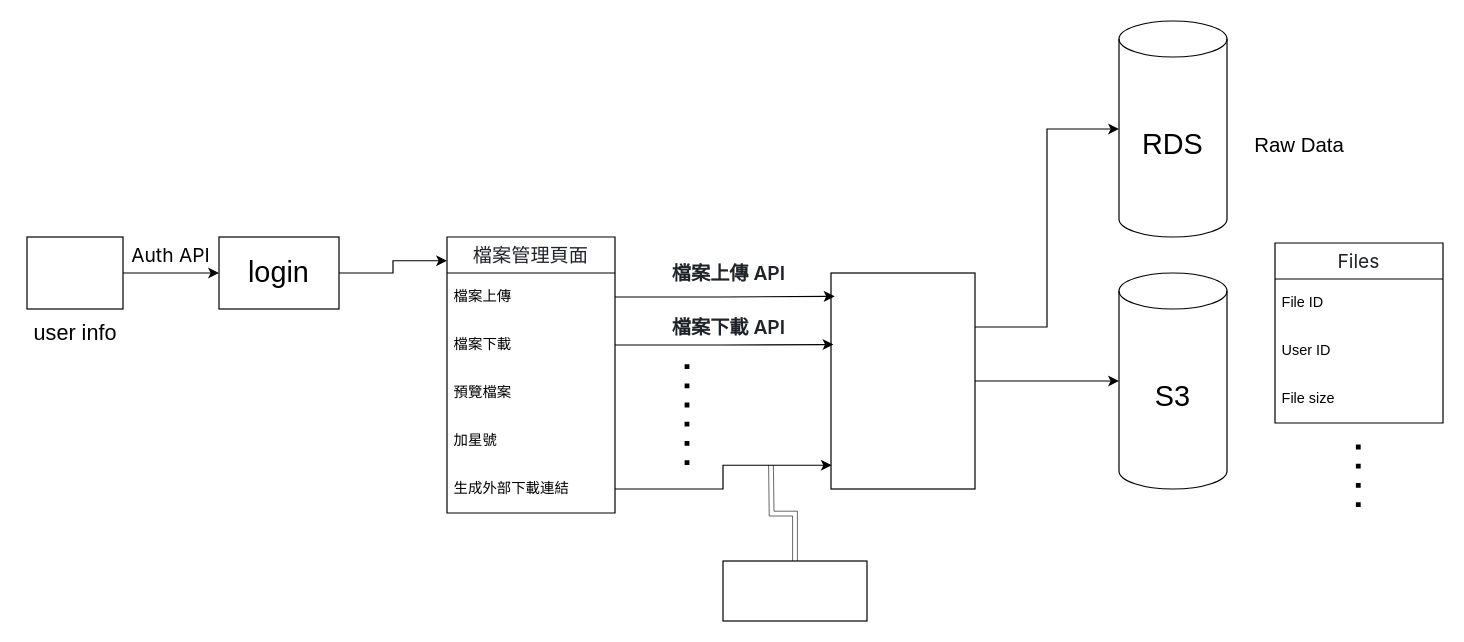
The diagram is 1464 pixels wide and 642 high, and some of its shapes have lost their labels. Each missing label, with the centre of its shape:
Backend: point 902,380
URL Link: point 794,590
user: point 74,272
